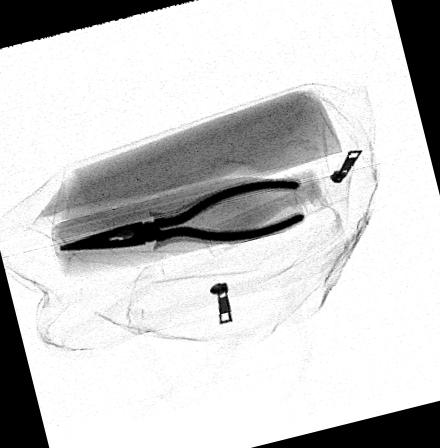Pliers: (57, 179, 305, 250)
